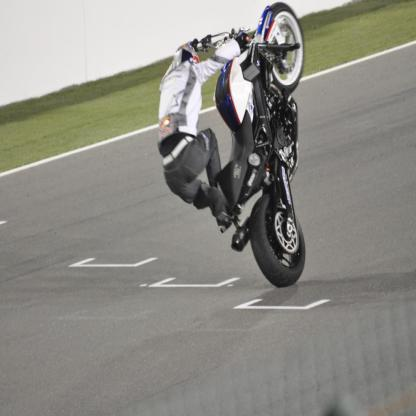Helmet: (169, 44, 200, 68)
